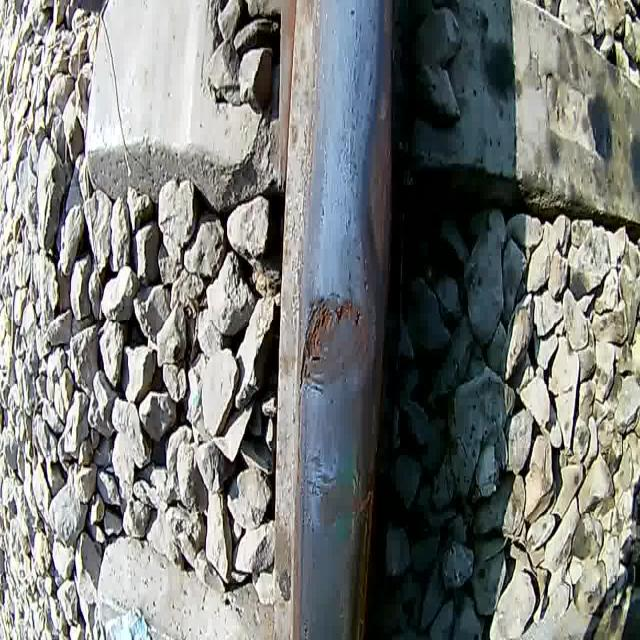Squats: (294, 286, 373, 407), (300, 437, 379, 533)
